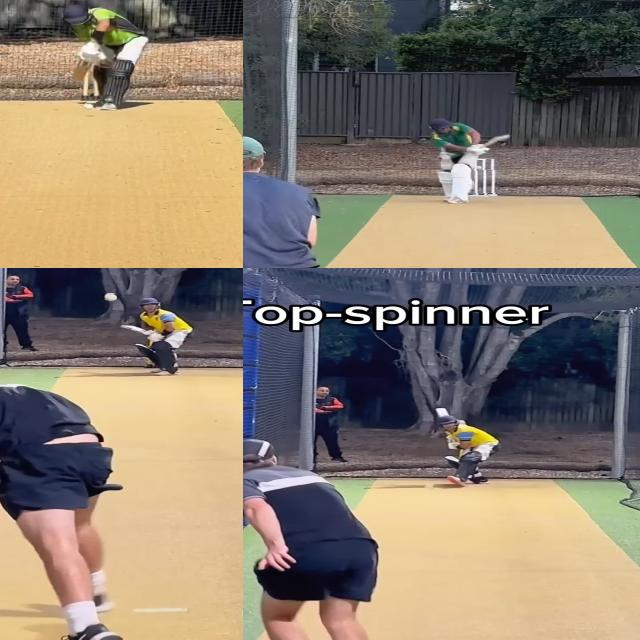Cricket ball: (82, 101, 96, 110), (104, 293, 118, 301), (424, 483, 434, 491), (475, 164, 483, 170)
Stumps: (472, 159, 497, 199)
